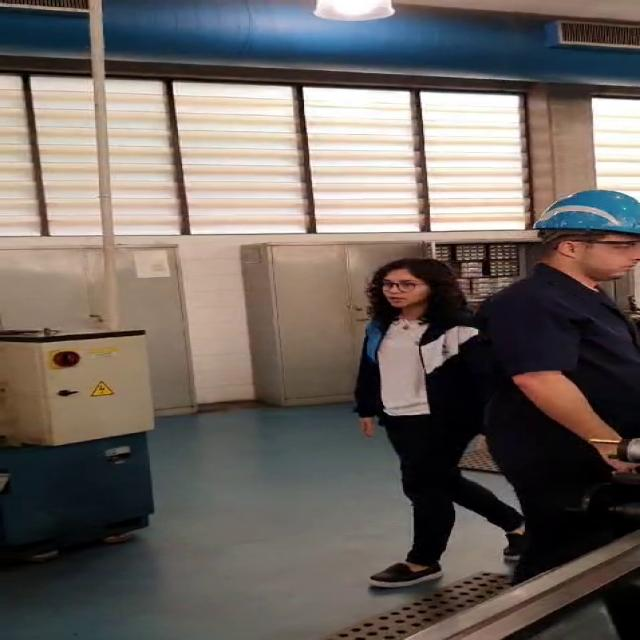oculos-epi: (547, 226, 640, 260)
sem_oculos: (367, 273, 447, 298)
